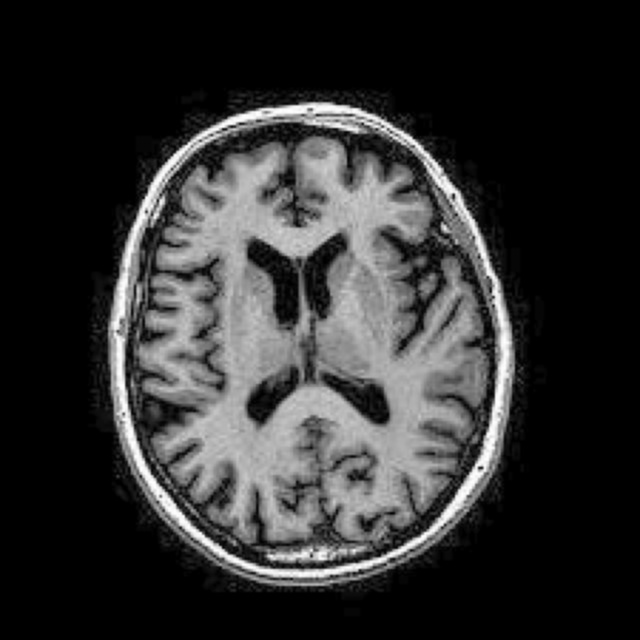glioma tumor: (150, 165, 430, 532)
